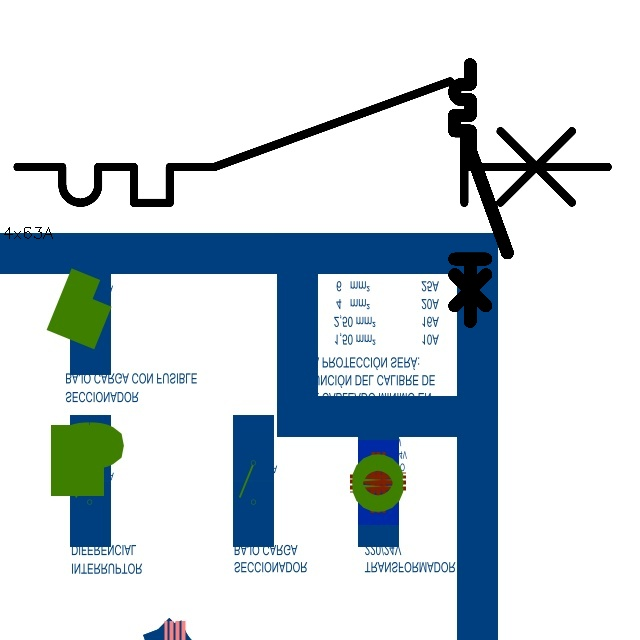interruptor_termomagnetico: (2, 66, 623, 218), (448, 58, 514, 328)
